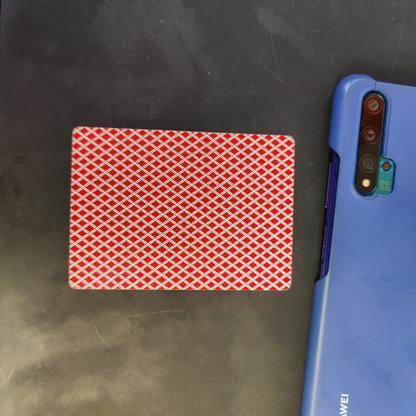card: (57, 114, 304, 301)
